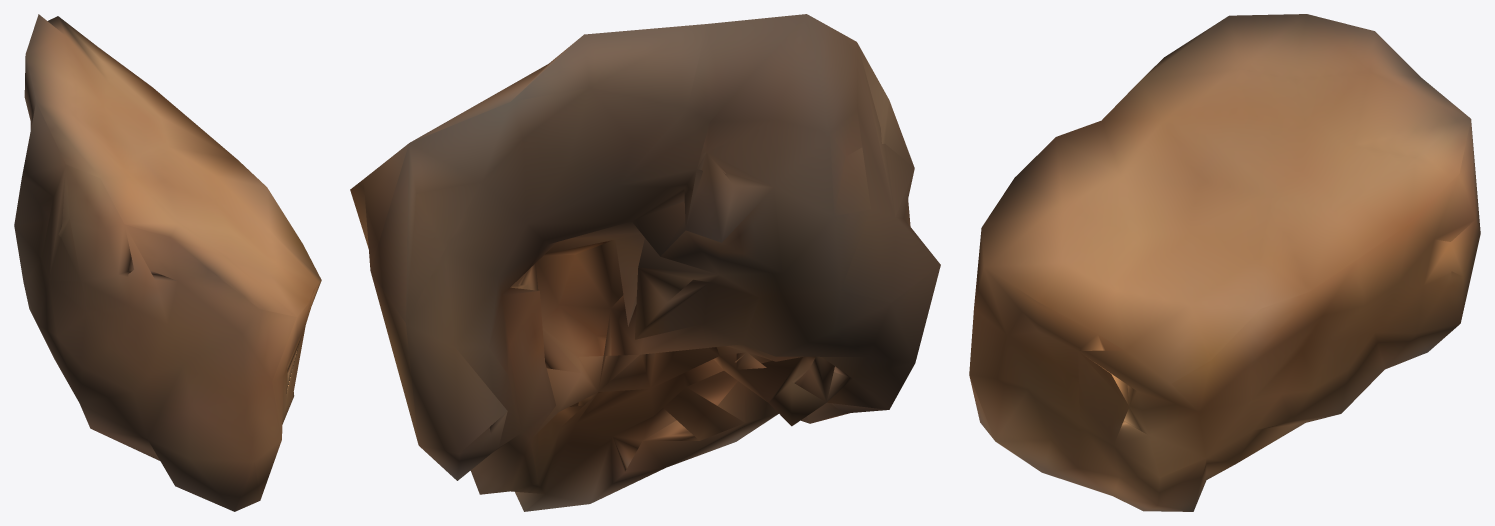
The model's file is mushroom_brick.glb.
The picture shows the model from 3 angles, left to right: view 1: azimuth 30°, elevation 25°; view 2: azimuth 150°, elevation 25°; view 3: azimuth 270°, elevation 25°; orthographic projection. The views are drawn at different scales.
Parts seen in each view (by area): view 1: model; view 2: model; view 3: model.
Boxes of the visible parts, x1,y1,x2,y2 form: model: [14, 14, 321, 511]; model: [350, 14, 940, 511]; model: [969, 14, 1480, 511].
Size of the model in its own units: 0.2705 by 0.3578 by 0.3899.
Materials: 1 (1 with a texture image).
